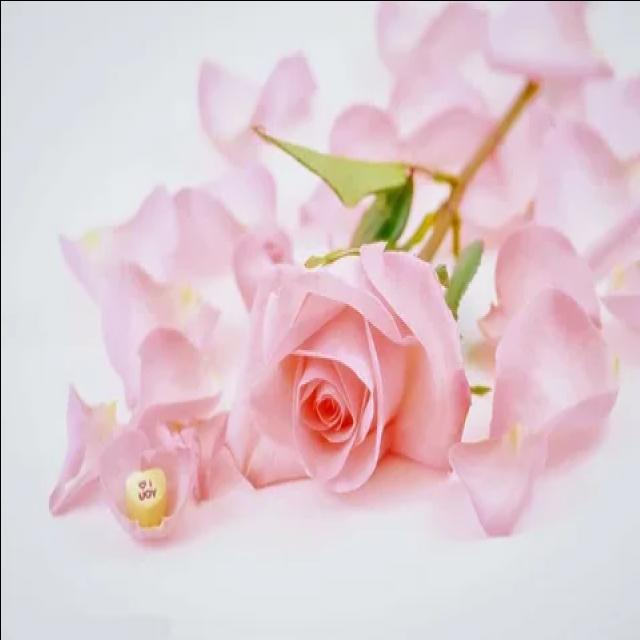rose: (239, 217, 476, 511)
